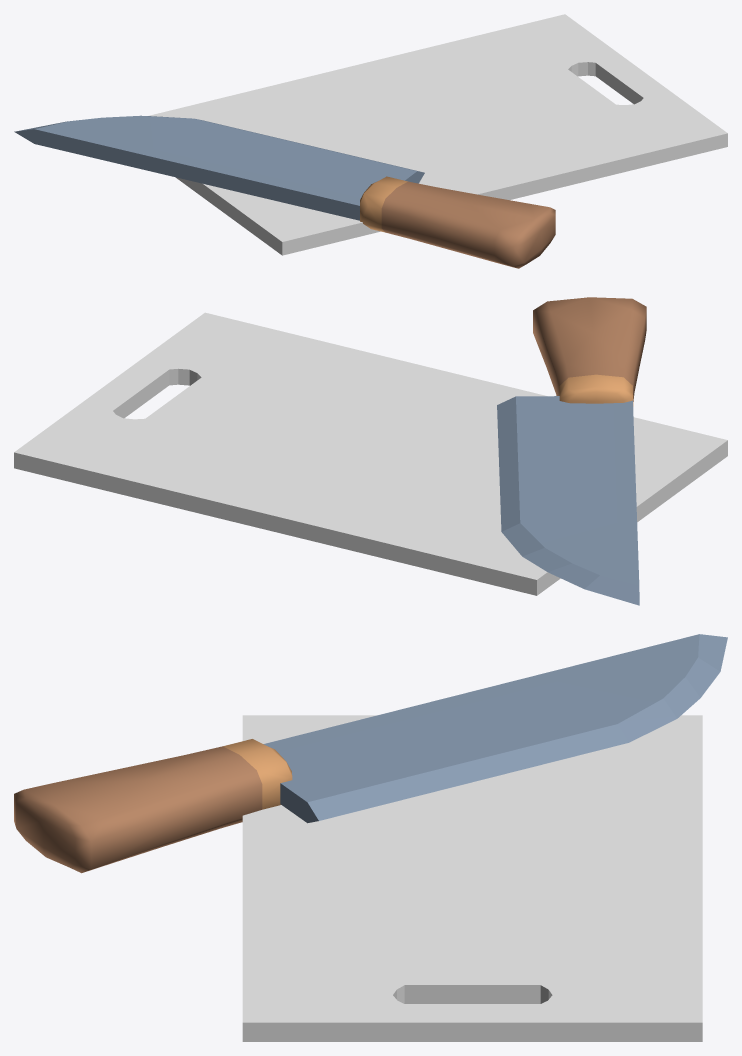
The model's file is quaternius-sushi-restaurant-environment-cuttingtable.glb.
The picture shows the model from 3 angles, top to bottom: view 1: azimuth 30°, elevation 25°; view 2: azimuth 150°, elevation 25°; view 3: azimuth 270°, elevation 25°; orthographic projection. The views are drawn at different scales.
Visible parts, largest first — view 1: Environment_CuttingTable; view 2: Environment_CuttingTable; view 3: Environment_CuttingTable.
Part boxes in pixels (left/top/right/bottom): Environment_CuttingTable: left=14, top=14, right=727, bottom=268; Environment_CuttingTable: left=14, top=297, right=727, bottom=605; Environment_CuttingTable: left=14, top=634, right=727, bottom=1041.
Bounding box in the file's own units: 2.1 × 0.1516 × 1.69.
Materials: 1 (1 with a texture image).
